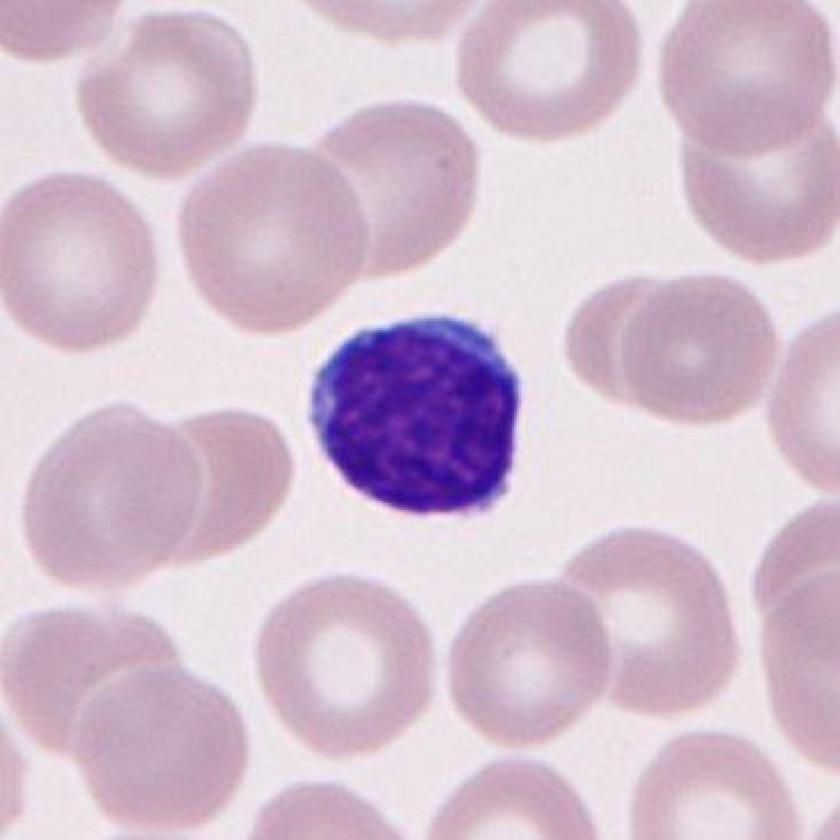lymphocyte: (297, 295, 536, 538)
